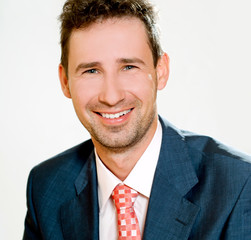young: (51, 2, 173, 143)
